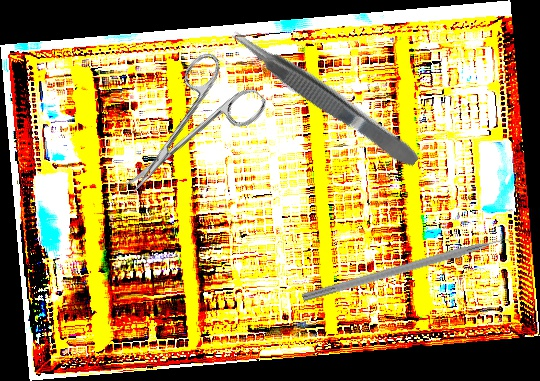Chopper: (301, 231, 522, 314)
Iris Scissors: (97, 43, 271, 218)
Tissue Forceps: (226, 21, 423, 175)
